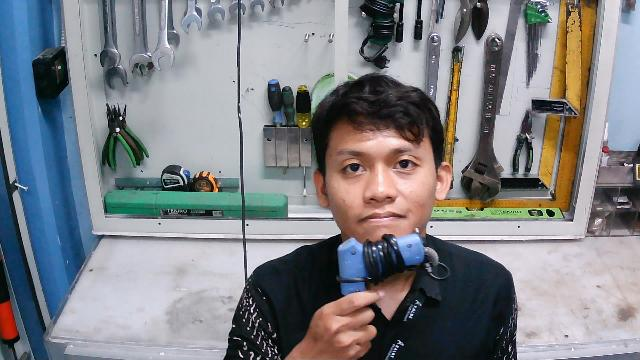solder_electrical: (331, 233, 452, 315)
